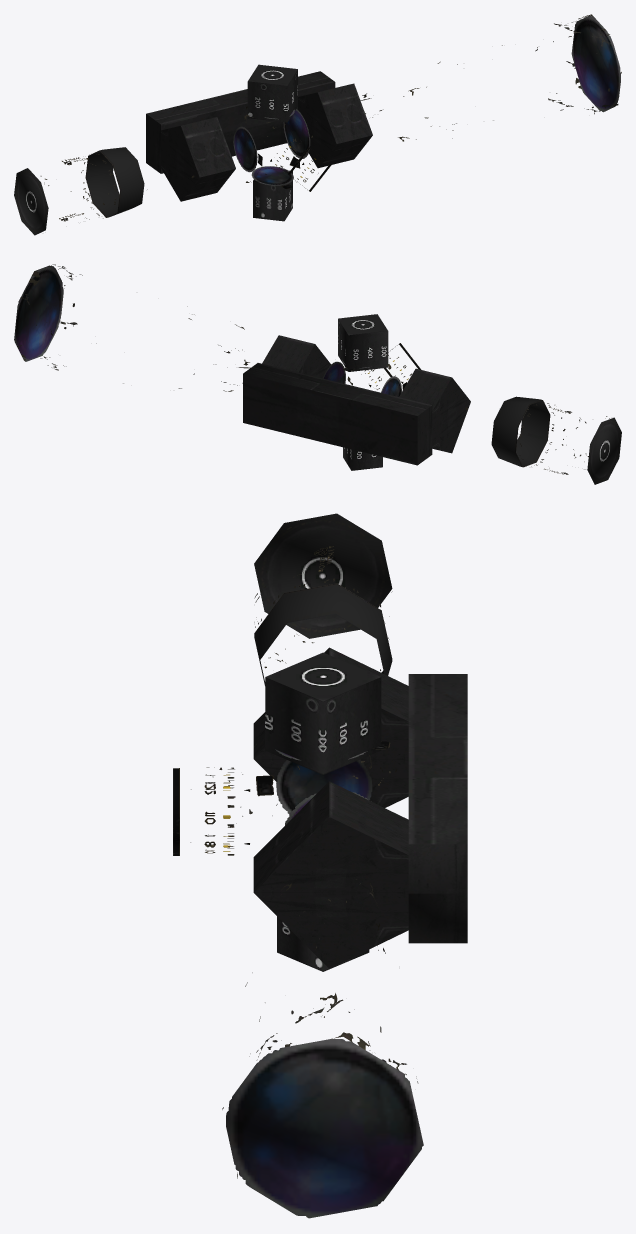
File: t6_wpn_sniper_ballista_scope_world_LOD1.obj
The picture shows the model from 3 angles, top to bottom: view 1: azimuth 30°, elevation 25°; view 2: azimuth 150°, elevation 25°; view 3: azimuth 270°, elevation 25°; orthographic projection. The views are drawn at different scales.
Visible parts, largest first — view 1: mtl_t6_wpn_sniper_ballista_scope_camo1, mtl_t6_wpn_sniper_ballista_scope_camo2; view 2: mtl_t6_wpn_sniper_ballista_scope_camo1; view 3: mtl_t6_wpn_sniper_ballista_scope_camo1, mtl_t6_wpn_sniper_ballista_scope_camo2.
Boxes of the visible parts, x1,y1,x2,y2 form: mtl_t6_wpn_sniper_ballista_scope_camo1: (14, 14, 621, 235); mtl_t6_wpn_sniper_ballista_scope_camo2: (181, 83, 372, 201); mtl_t6_wpn_sniper_ballista_scope_camo1: (14, 264, 621, 484); mtl_t6_wpn_sniper_ballista_scope_camo1: (173, 513, 467, 1218); mtl_t6_wpn_sniper_ballista_scope_camo2: (253, 648, 408, 968).
Bounding box in the file's own units: 36.53 × 8.5 × 8.38.
